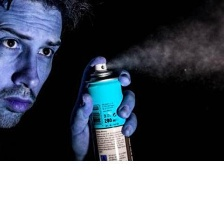aerosol_cans: (81, 57, 140, 197)
